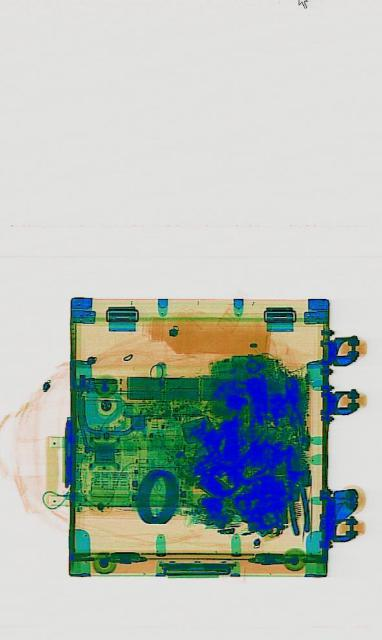Pliers: (279, 442, 310, 536)
